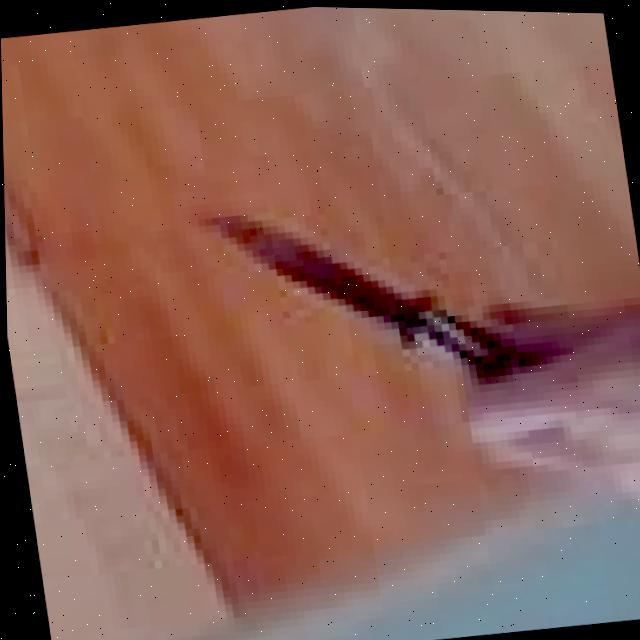knife: (203, 178, 501, 394)
